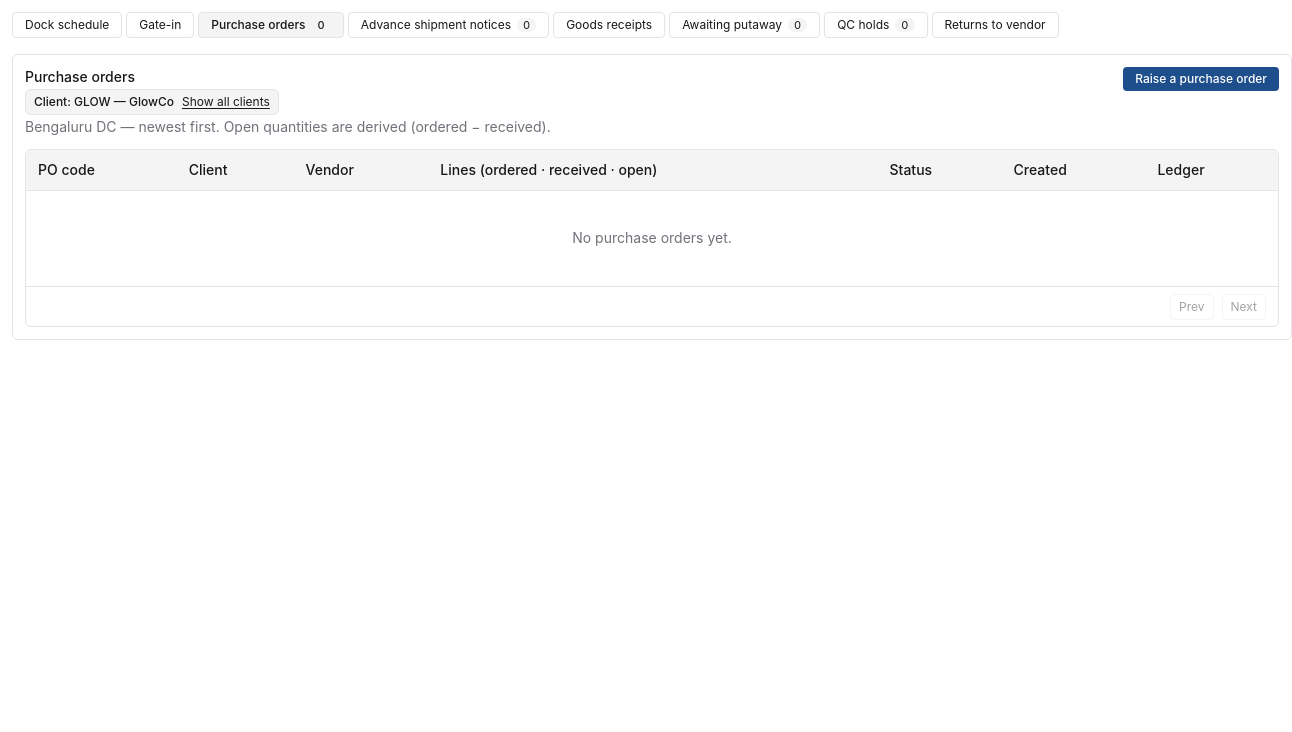
Test: PoCreateForm › GlowCo selected: the client defaults to GlowCo; only its actively linked vendors (by code) and active non-kit SKUs are offered, from client-scoped reads
Click the button "Raise a purchase order".
click(1201, 79)  # box [1123,67,1279,91]
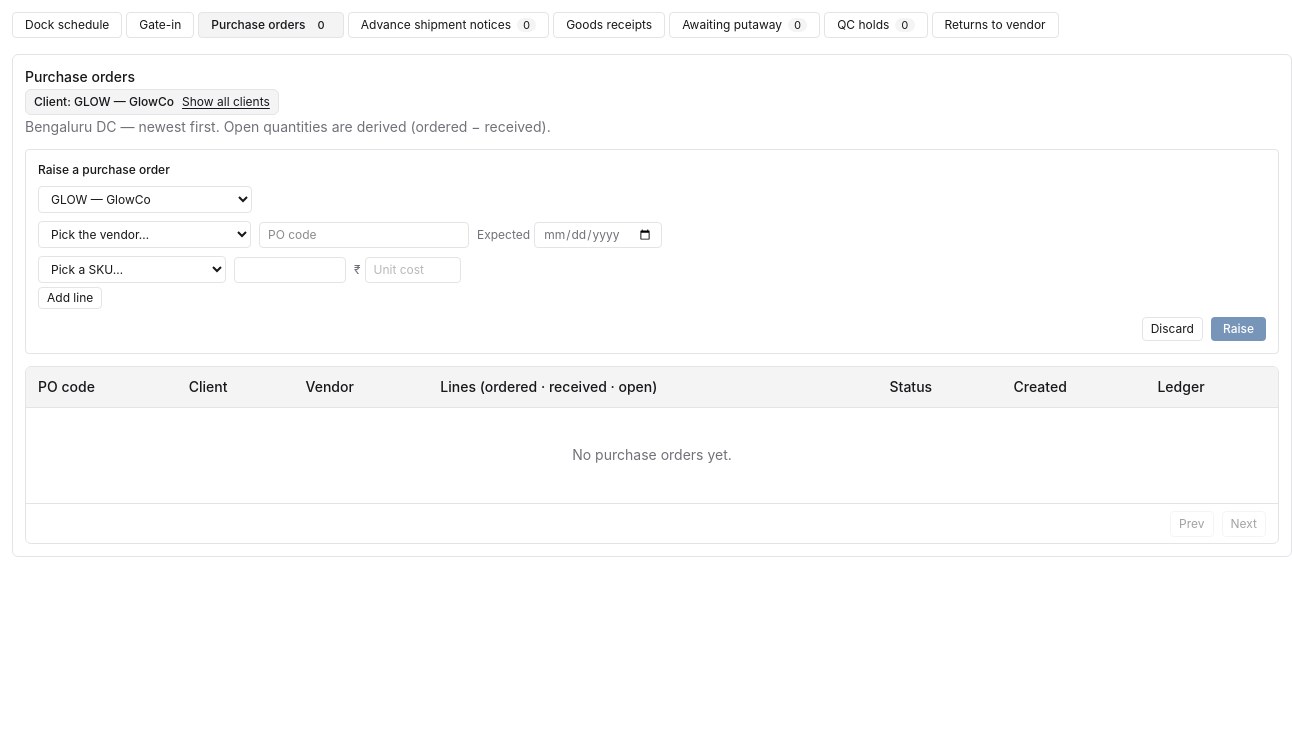
Expected: the form named "Raise a purchase order" is shown, [25,149,1279,354]
